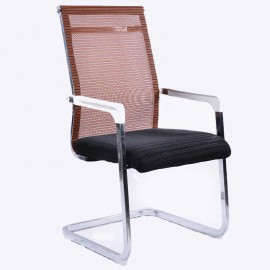chairs: (51, 6, 233, 267)
